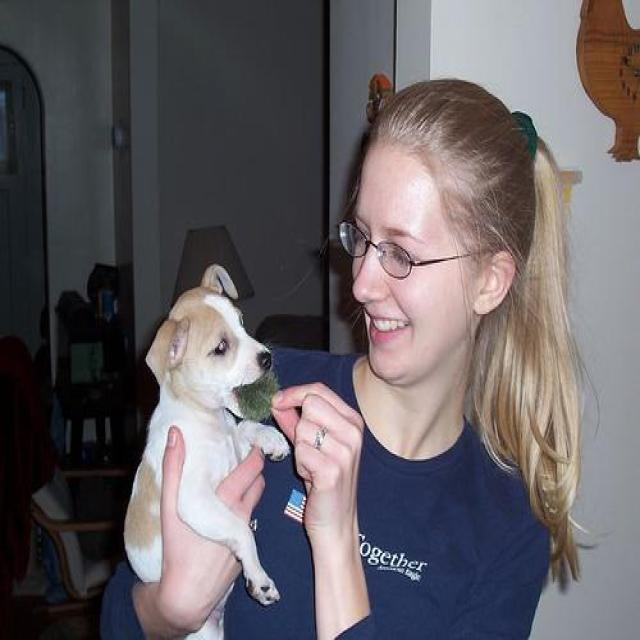toy_terrier: (123, 266, 287, 638)
